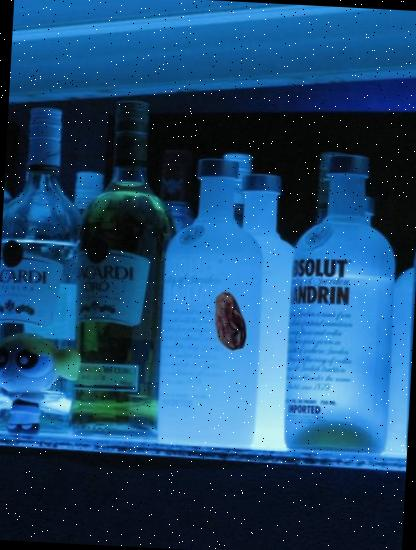Dates: (198, 290, 260, 352)
